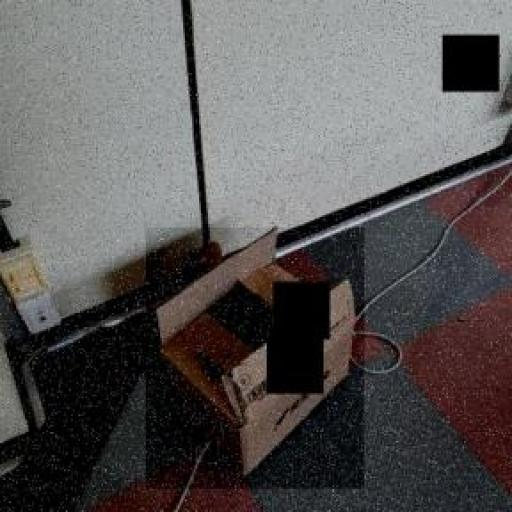box: (146, 227, 364, 489)
